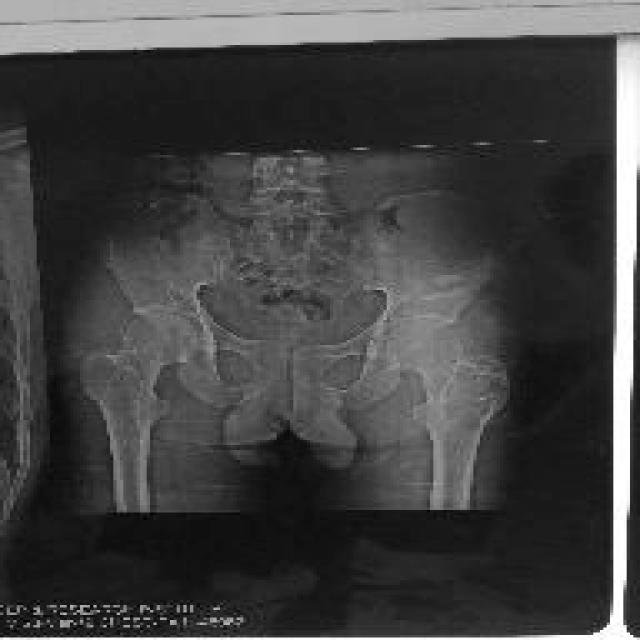bone-cancer: (428, 340, 508, 438)
